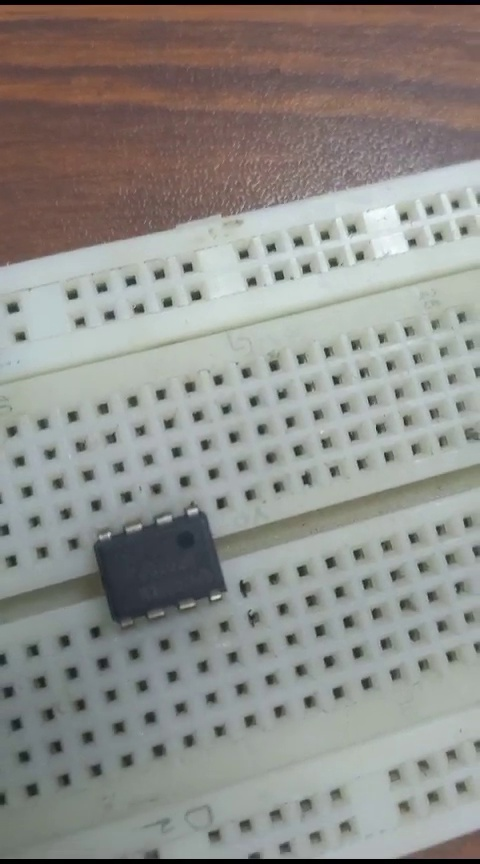IC: (87, 503, 246, 621)
